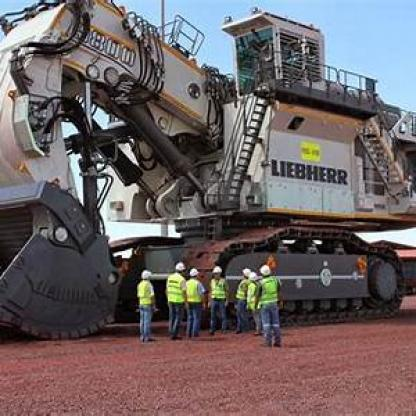person: (255, 264, 286, 350), (133, 254, 157, 352), (234, 268, 262, 344), (162, 258, 183, 341), (204, 260, 226, 332)
